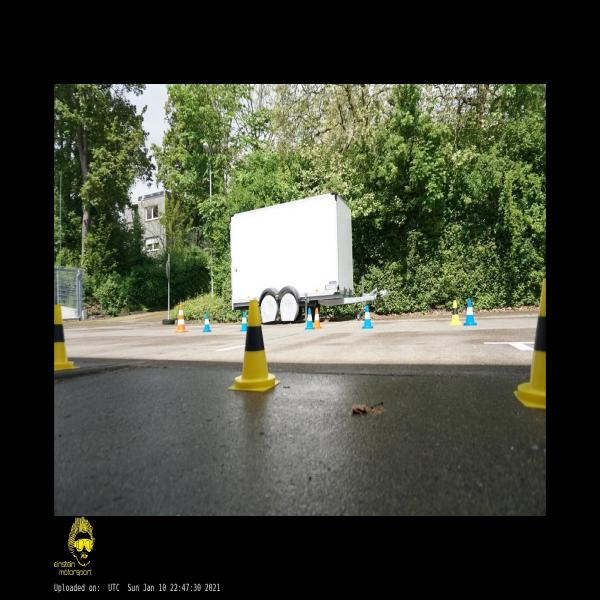blue_cone: (463, 300, 477, 325), (362, 305, 373, 329), (202, 313, 212, 332), (305, 308, 314, 329), (240, 312, 247, 331)
large_orange_cone: (175, 303, 188, 332)
orange_cone: (314, 308, 322, 329)
yellow_cone: (228, 301, 280, 391), (514, 278, 546, 408), (54, 305, 80, 371), (450, 300, 461, 325)
